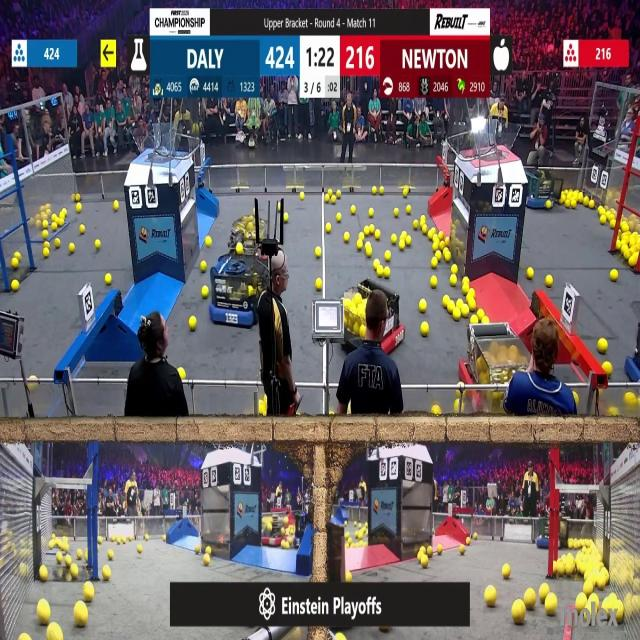ball_ground: (37, 601, 50, 624), (514, 602, 526, 626), (75, 604, 87, 628), (544, 596, 556, 616), (524, 590, 536, 608), (49, 625, 63, 640), (486, 587, 496, 607), (86, 584, 96, 603), (564, 563, 575, 578), (576, 594, 585, 611), (597, 574, 607, 589), (626, 392, 636, 406), (598, 339, 607, 354), (538, 586, 547, 600), (585, 582, 594, 596), (501, 564, 509, 579), (40, 566, 48, 581), (258, 403, 266, 418), (188, 316, 196, 330), (421, 322, 429, 335), (103, 566, 110, 580), (71, 564, 78, 578), (603, 362, 611, 374), (453, 309, 461, 321), (420, 556, 428, 568), (630, 257, 638, 269), (608, 408, 617, 418), (544, 276, 552, 287), (526, 269, 534, 280), (178, 367, 186, 378), (461, 307, 469, 318), (316, 278, 323, 290), (11, 280, 18, 292), (105, 274, 112, 286), (420, 301, 427, 313), (346, 570, 353, 582), (364, 244, 371, 256), (237, 244, 244, 256), (432, 407, 440, 417), (584, 198, 592, 208), (454, 399, 460, 412), (610, 271, 617, 282), (451, 276, 458, 287), (204, 555, 211, 566), (444, 295, 451, 306), (377, 268, 384, 279), (11, 260, 18, 271), (445, 250, 452, 261), (469, 315, 477, 324), (356, 241, 363, 251), (65, 556, 72, 566), (203, 286, 209, 297), (316, 247, 322, 258), (384, 268, 390, 279), (70, 241, 76, 252), (448, 302, 454, 313), (58, 553, 64, 564), (616, 240, 622, 251), (456, 297, 463, 306), (468, 301, 475, 310), (430, 277, 436, 287), (43, 248, 49, 258), (95, 240, 101, 250), (113, 201, 119, 211), (375, 231, 381, 241), (385, 251, 391, 261), (108, 550, 114, 560), (206, 238, 212, 248), (398, 241, 404, 251), (42, 231, 48, 241), (462, 284, 468, 294), (372, 261, 378, 271), (407, 237, 413, 247), (434, 250, 441, 258), (431, 242, 438, 250), (66, 573, 73, 581), (360, 326, 365, 337), (452, 266, 458, 275), (391, 236, 397, 245), (55, 240, 61, 249), (22, 634, 31, 640), (436, 546, 442, 555), (76, 204, 82, 213), (545, 201, 551, 210), (479, 310, 485, 319), (413, 220, 419, 229), (609, 219, 615, 228), (76, 551, 82, 560), (202, 263, 207, 273), (345, 234, 350, 244), (460, 543, 465, 553), (431, 258, 436, 268), (83, 552, 88, 562), (427, 544, 432, 554), (282, 541, 289, 548), (194, 544, 200, 552), (206, 546, 212, 554), (327, 223, 333, 231), (358, 234, 364, 242), (407, 206, 413, 214), (422, 224, 428, 232), (440, 241, 446, 249), (276, 204, 282, 212), (62, 210, 68, 218), (394, 208, 399, 217), (351, 206, 356, 215), (324, 193, 329, 202), (571, 200, 576, 209), (402, 188, 407, 197), (330, 197, 335, 206), (428, 232, 433, 241), (421, 214, 426, 223), (43, 241, 49, 248), (420, 545, 426, 552), (598, 208, 604, 215), (80, 223, 84, 233), (465, 536, 470, 544), (364, 226, 369, 234), (600, 216, 605, 224), (371, 186, 376, 194), (357, 533, 362, 541), (51, 222, 56, 230), (380, 186, 385, 194), (400, 233, 405, 241), (43, 220, 48, 228), (337, 190, 342, 198), (440, 233, 445, 241), (284, 213, 288, 222), (338, 213, 342, 222), (130, 534, 135, 541), (121, 536, 126, 543), (14, 252, 19, 259), (299, 191, 303, 199), (138, 544, 142, 552), (368, 209, 372, 217), (76, 192, 80, 200), (472, 533, 477, 539), (353, 521, 357, 527), (99, 536, 102, 543), (145, 534, 148, 540), (164, 534, 167, 540)
goal: (465, 121, 521, 160), (130, 129, 188, 159)
robot_blue: (210, 252, 264, 326), (525, 168, 559, 208), (226, 213, 262, 250)
robot_red: (464, 324, 524, 403), (341, 281, 385, 341), (261, 513, 287, 546)
